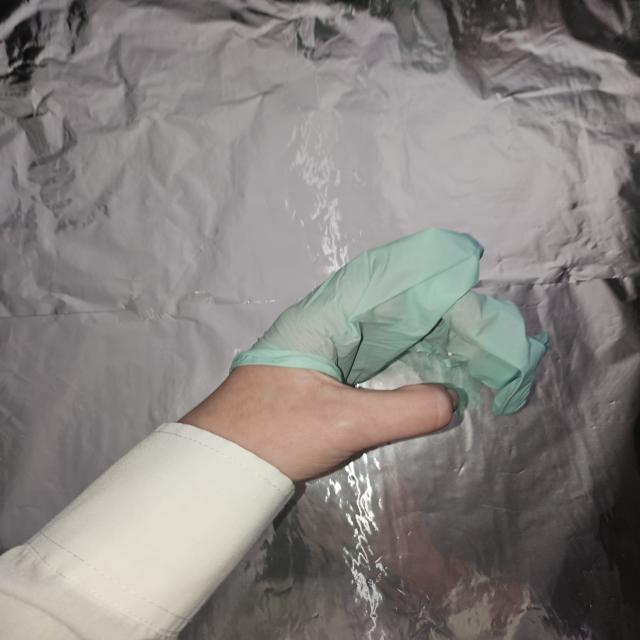glove_partial: (176, 227, 554, 486)
